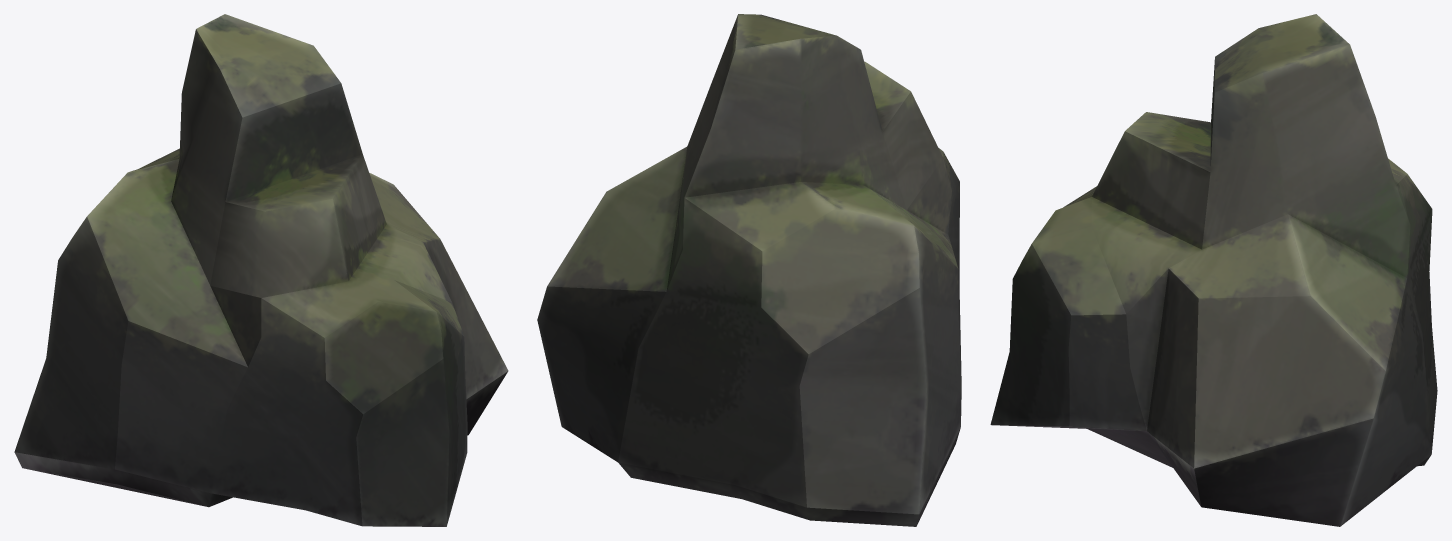
Rendered from Rock_2.glb.
3 views of the same model, side by side, from view 1: azimuth 30°, elevation 25°; view 2: azimuth 150°, elevation 25°; view 3: azimuth 270°, elevation 25° (orthographic). The views are drawn at different scales.
Visible parts, largest first — view 1: Rock_2; view 2: Rock_2; view 3: Rock_2.
Boxes of the visible parts, bbox=[...] form: Rock_2: bbox=[14, 14, 508, 526]; Rock_2: bbox=[537, 14, 961, 526]; Rock_2: bbox=[990, 14, 1437, 526].
Bounding box in the file's own units: 1.05 × 1.12 × 1.08.
1 material, 1 textured.
